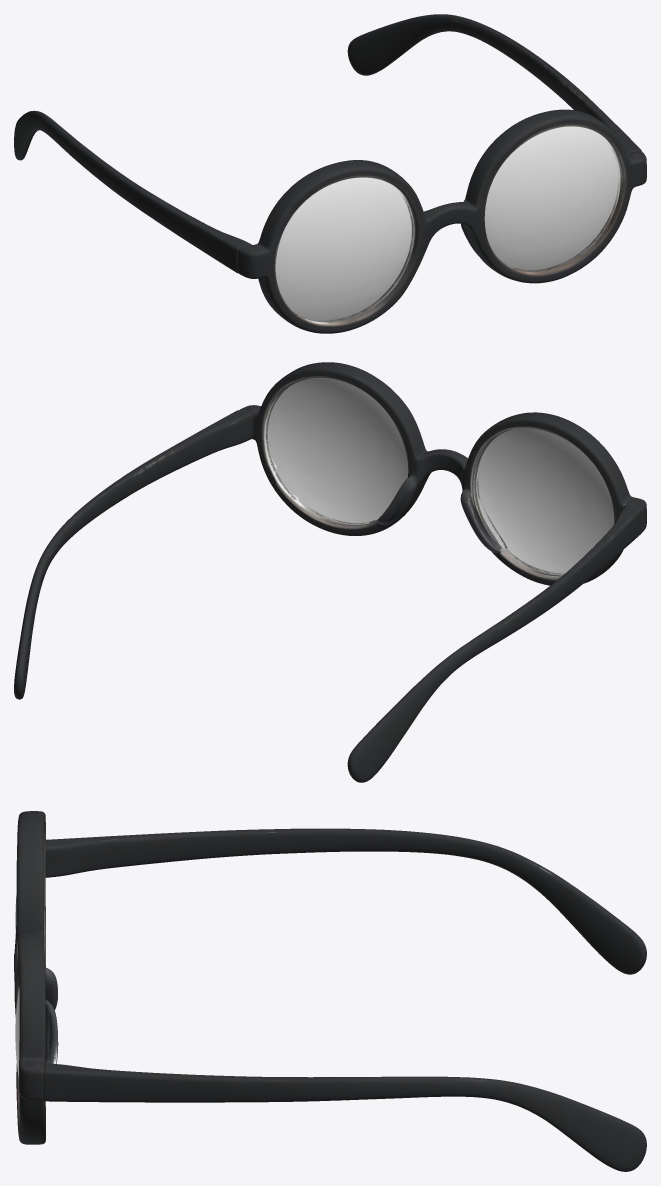
The model's file is harry_potter.glb.
3 views of the same model, one above another, from view 1: azimuth 30°, elevation 25°; view 2: azimuth 150°, elevation 25°; view 3: azimuth 270°, elevation 25° (orthographic). The views are drawn at different scales.
Parts seen in each view (by area): view 1: node_0; view 2: node_0; view 3: node_0.
Boxes of the visible parts, <box> form: node_0: <box>14,14,646,333</box>; node_0: <box>14,362,646,782</box>; node_0: <box>14,811,646,1171</box>.
Size of the model in its own units: 0.8803 by 0.3131 by 0.929.
1 material, 1 textured.
